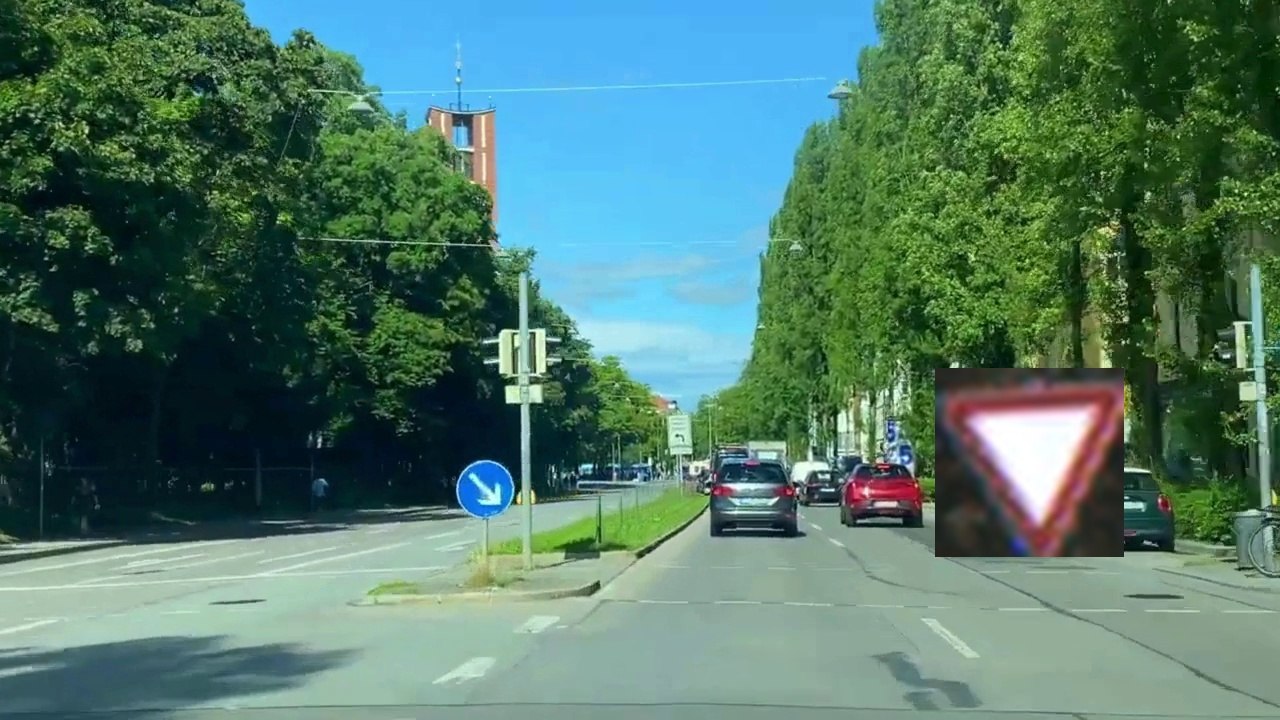Yield: (935, 368, 1124, 557)
